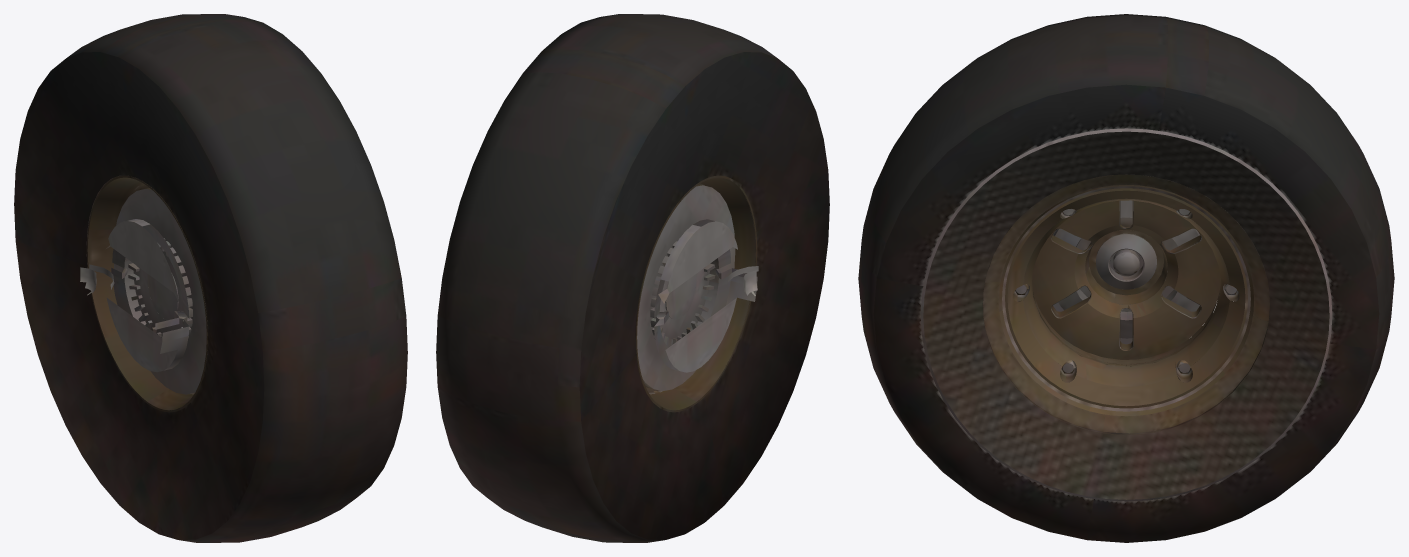
Rendered from buggy_wheel_front.glb.
The picture shows the model from 3 angles, left to right: view 1: azimuth 30°, elevation 25°; view 2: azimuth 150°, elevation 25°; view 3: azimuth 270°, elevation 25°; orthographic projection.
Visible parts, largest first — view 1: buggy_wheel_front; view 2: buggy_wheel_front; view 3: buggy_wheel_front.
Part boxes in pixels (x1,y1,x2,y2): buggy_wheel_front: (14, 14, 407, 542); buggy_wheel_front: (436, 14, 829, 542); buggy_wheel_front: (858, 14, 1394, 542).
Bounding box in the file's own units: 0.3682 × 0.8506 × 0.8506.
Materials: 1 (1 with a texture image).
